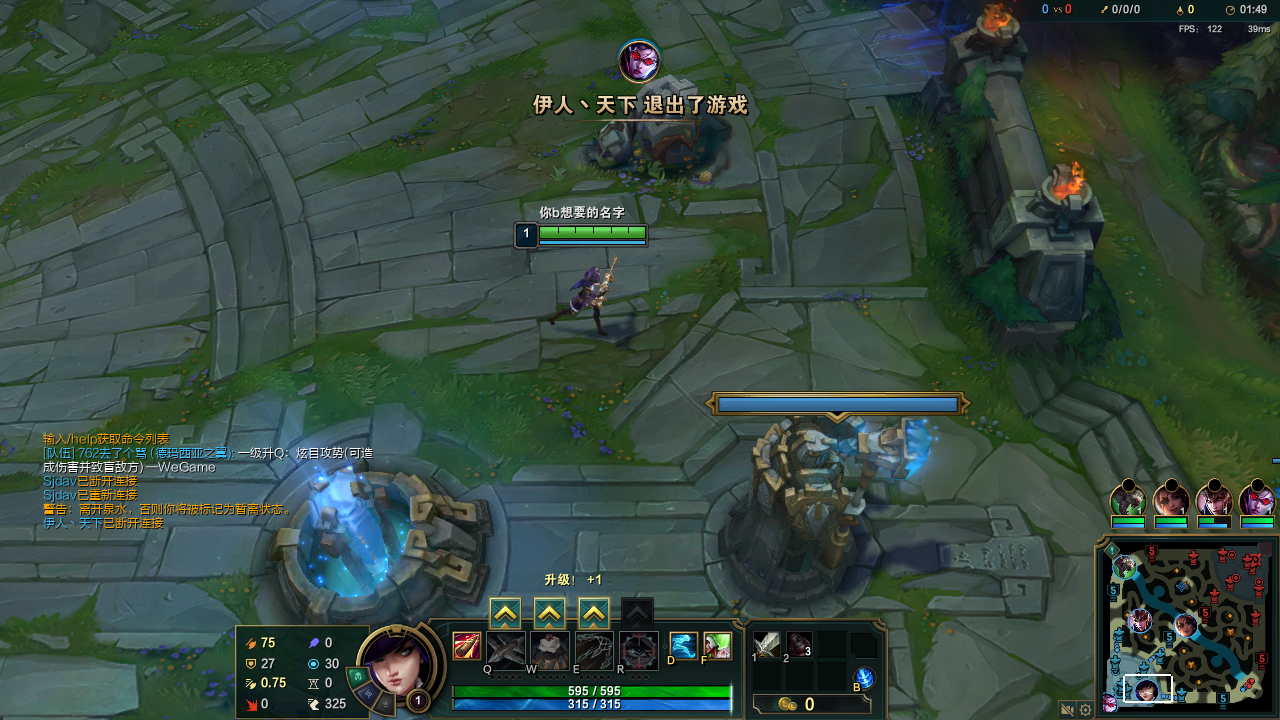Shenji: (584, 597, 607, 629), (535, 601, 560, 619), (495, 605, 515, 627)
Yita: (1215, 688, 1230, 705)
